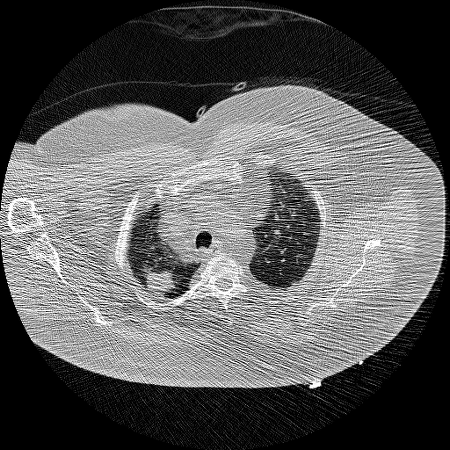nodule: (145, 267, 173, 295)
